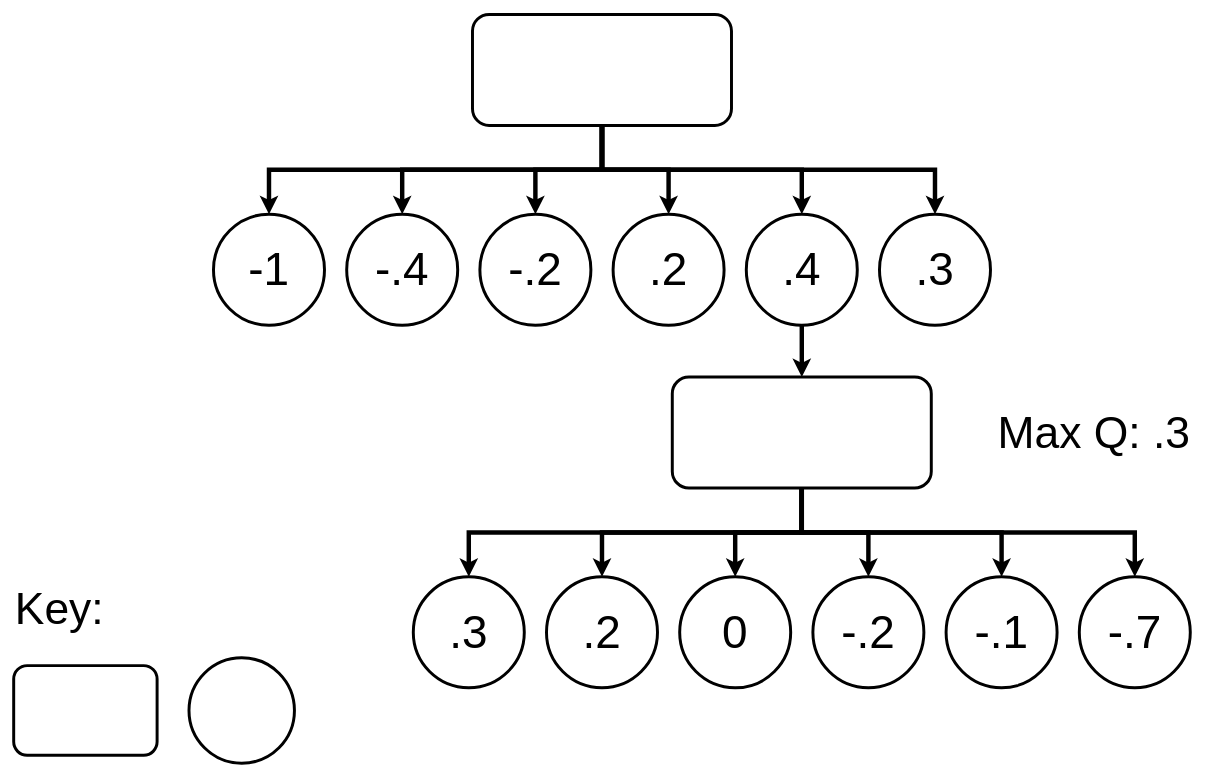
Some shapes in this 1211 by 777 pixel diagram are drawn without their labels. The shapes that lost their labels are listed below. From the top down, each one's box as (x1, y1, x2, y2) in pixels, then its label:
(471, 13, 733, 127): State 0.0
(670, 375, 932, 489): State 0.2
(12, 664, 158, 756): State
(187, 656, 296, 764): Q Value
